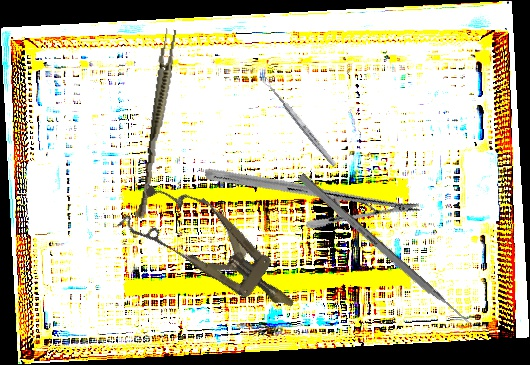Needle Holder: (203, 104, 422, 278)
Pusher: (297, 173, 483, 336)
Speculum: (116, 166, 314, 335)
Surgical Spoon: (261, 76, 338, 168)
Tissue Forceps: (134, 27, 179, 220)
